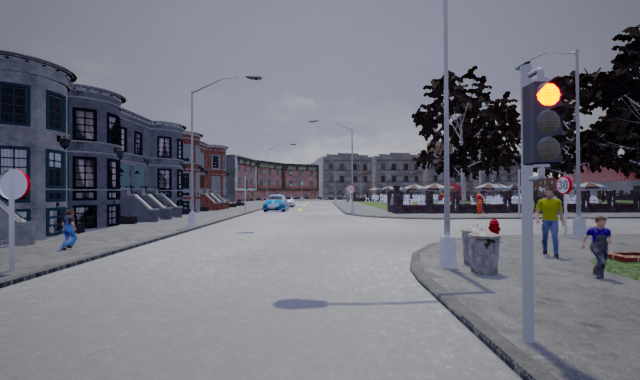pedestrian: (533, 183, 569, 259), (579, 215, 613, 282), (57, 205, 78, 253), (472, 188, 487, 216)
traffic_light: (521, 81, 568, 165)
traffic_sign: (345, 184, 355, 193)
vehicle: (260, 193, 289, 213)
